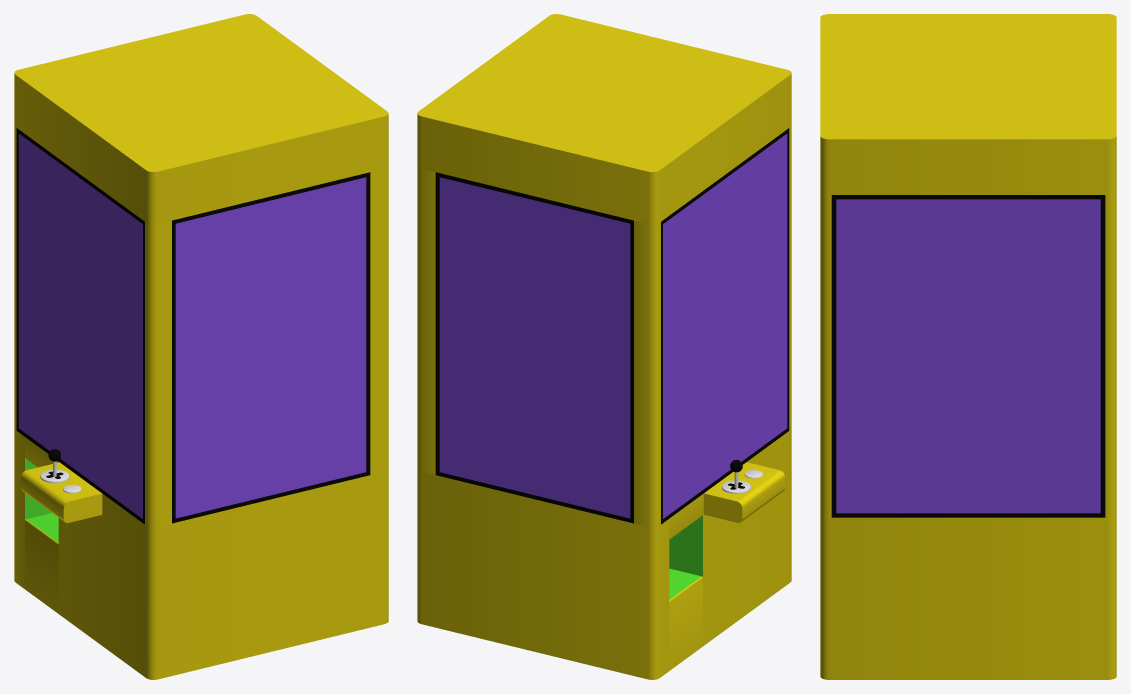
File: ClawMachine.fbx
The picture shows the model from 3 angles, left to right: view 1: azimuth 30°, elevation 25°; view 2: azimuth 150°, elevation 25°; view 3: azimuth 270°, elevation 25°; orthographic projection. The views are drawn at different scales.
Visible parts, largest first — view 1: SM_Mirror, SM_Body_Top, SM_Body, SM_ControllerBase; view 2: SM_Mirror, SM_Body_Top, SM_Body, SM_ControllerBase; view 3: SM_Mirror, SM_Body_Top, SM_Body.
Boxes of the visible parts, x1=… form: SM_Mirror: x1=16, y1=128, x2=370, y2=524; SM_Body_Top: x1=14, y1=14, x2=388, y2=527; SM_Body: x1=14, y1=429, x2=388, y2=679; SM_ControllerBase: x1=21, y1=462, x2=102, y2=522; SM_Mirror: x1=435, y1=128, x2=789, y2=524; SM_Body_Top: x1=417, y1=14, x2=791, y2=527; SM_Body: x1=417, y1=429, x2=791, y2=679; SM_ControllerBase: x1=703, y1=462, x2=784, y2=522; SM_Mirror: x1=831, y1=195, x2=1105, y2=517; SM_Body_Top: x1=820, y1=14, x2=1116, y2=517; SM_Body: x1=820, y1=514, x2=1116, y2=679.
Size of what is drawn, in the model's own units: 1160 by 2011 by 1000.
